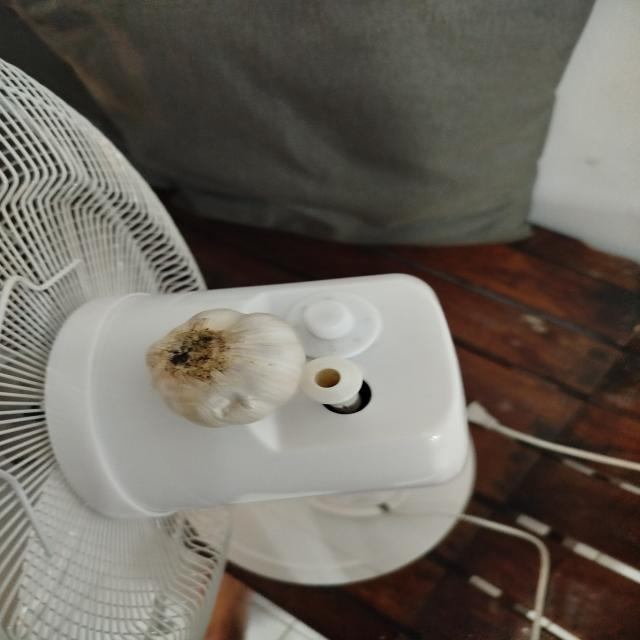garlic: (146, 307, 306, 428)
